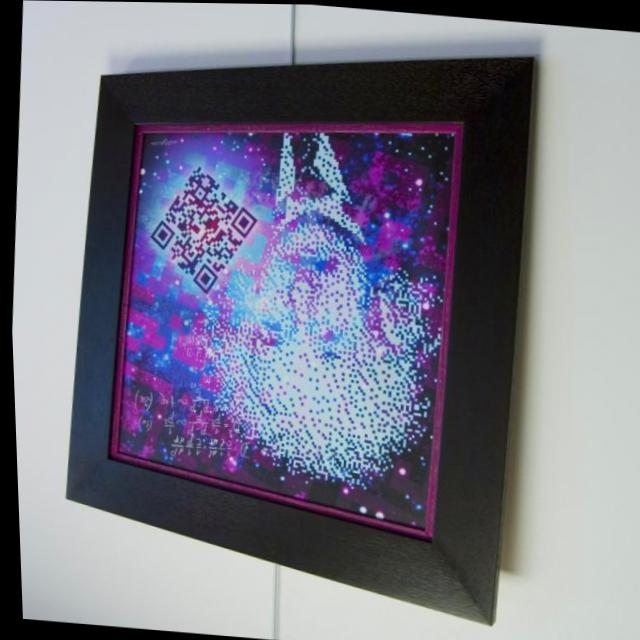qrcode: (143, 160, 262, 297)
